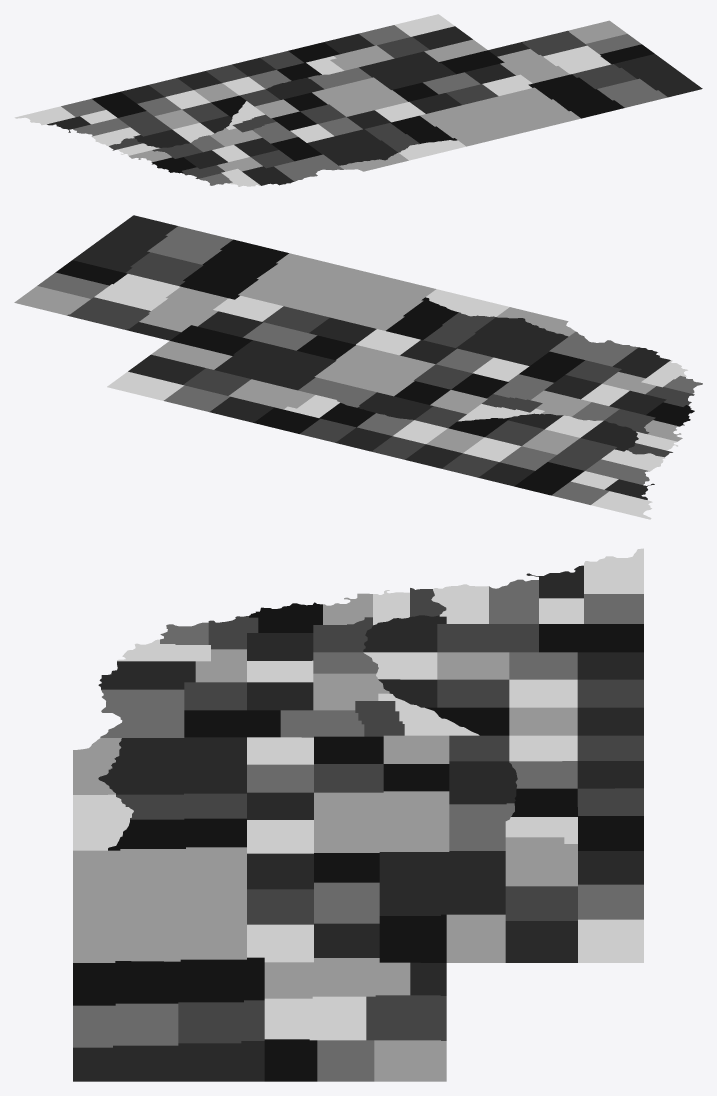
Rendered from Nebraska_Counties_2D.fbx.
The picture shows the model from 3 angles, top to bottom: view 1: azimuth 30°, elevation 25°; view 2: azimuth 150°, elevation 25°; view 3: azimuth 270°, elevation 25°; orthographic projection. The views are drawn at different scales.
Visible parts, largest first — view 1: NE_Cherry_County_2D, NE_Custer_County_2D, NE_Sheridan_County_2D, NE_Lincoln_County_2D, NE_Holt_County_2D, NE_Sioux_County_2D, NE_Garden_County_2D, NE_Dawes_County_2D, NE_Morrill_County_2D, NE_Brown_County_2D, NE_Knox_County_2D, NE_Cheyenne_County_2D (+78 smaller); view 2: NE_Cherry_County_2D, NE_Custer_County_2D, NE_Sheridan_County_2D, NE_Lincoln_County_2D, NE_Holt_County_2D, NE_Sioux_County_2D, NE_Garden_County_2D, NE_Dawes_County_2D, NE_Morrill_County_2D, NE_Knox_County_2D, NE_Brown_County_2D, NE_Cheyenne_County_2D (+78 smaller); view 3: NE_Cherry_County_2D, NE_Sheridan_County_2D, NE_Custer_County_2D, NE_Lincoln_County_2D, NE_Holt_County_2D, NE_Sioux_County_2D, NE_Garden_County_2D, NE_Dawes_County_2D, NE_Morrill_County_2D, NE_Brown_County_2D, NE_Knox_County_2D, NE_Cheyenne_County_2D (+80 smaller).
Part boxes in pixels (x1,y1,x2,y2): NE_Cherry_County_2D: (420, 87, 580, 146); NE_Custer_County_2D: (312, 77, 407, 116); NE_Sheridan_County_2D: (528, 74, 624, 118); NE_Lincoln_County_2D: (359, 51, 455, 89); NE_Holt_County_2D: (307, 129, 397, 165); NE_Sioux_County_2D: (614, 54, 702, 97); NE_Garden_County_2D: (497, 49, 569, 83); NE_Dawes_County_2D: (597, 78, 667, 107); NE_Morrill_County_2D: (543, 45, 611, 74); NE_Brown_County_2D: (390, 115, 457, 143); NE_Knox_County_2D: (274, 154, 343, 181); NE_Cheyenne_County_2D: (522, 30, 586, 56); NE_Cherry_County_2D: (238, 253, 435, 330); NE_Custer_County_2D: (314, 345, 435, 396); NE_Sheridan_County_2D: (179, 239, 288, 299); NE_Lincoln_County_2D: (214, 340, 336, 390); NE_Holt_County_2D: (456, 317, 568, 365); NE_Sioux_County_2D: (72, 215, 177, 272); NE_Garden_County_2D: (139, 286, 227, 332); NE_Dawes_County_2D: (147, 226, 232, 264); NE_Morrill_County_2D: (94, 274, 180, 310); NE_Knox_County_2D: (549, 331, 638, 366); NE_Brown_County_2D: (386, 297, 458, 339); NE_Cheyenne_County_2D: (67, 297, 150, 329); NE_Cherry_County_2D: (73, 847, 246, 962); NE_Sheridan_County_2D: (73, 957, 264, 1005); NE_Custer_County_2D: (314, 791, 449, 852); NE_Lincoln_County_2D: (379, 851, 505, 915); NE_Holt_County_2D: (98, 737, 246, 794); NE_Sioux_County_2D: (73, 1041, 264, 1081); NE_Garden_County_2D: (264, 958, 410, 998); NE_Dawes_County_2D: (73, 1003, 178, 1047); NE_Morrill_County_2D: (264, 996, 366, 1040); NE_Brown_County_2D: (108, 818, 246, 850); NE_Knox_County_2D: (100, 689, 184, 737); NE_Cheyenne_County_2D: (366, 995, 446, 1040).
Bounding box in the file's own units: 824 × 0 × 373.
